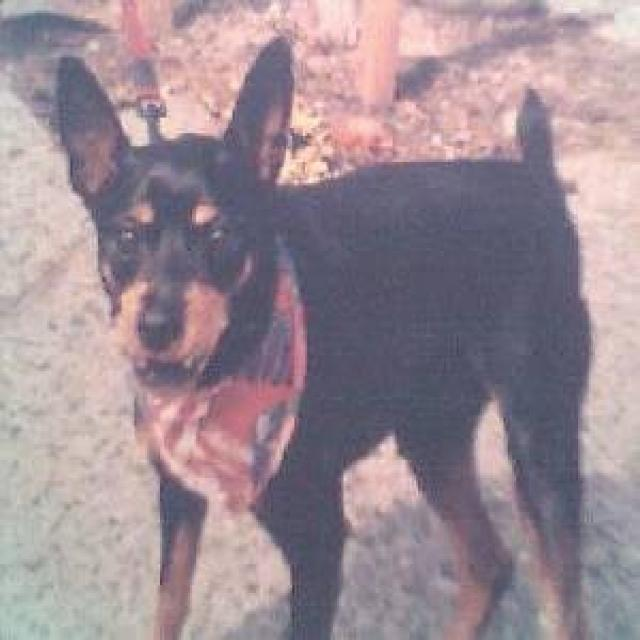dog-miniature_pinscher: (49, 26, 597, 635)
